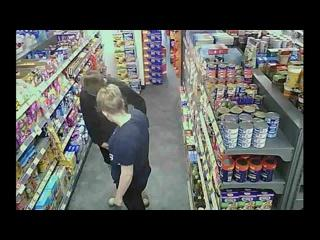shoplifting: (96, 83, 152, 209), (80, 73, 146, 163)
